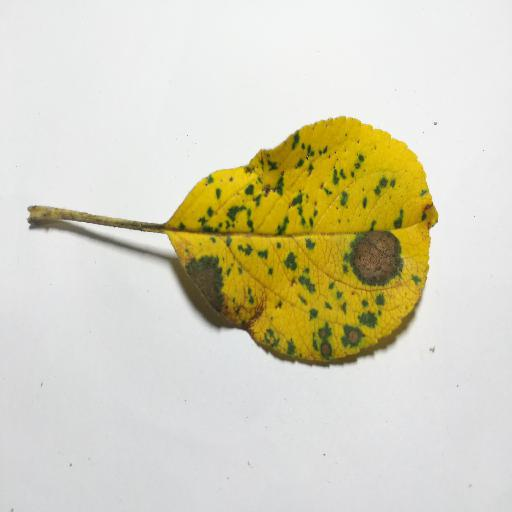Brown_Spot: (179, 253, 220, 309), (350, 233, 390, 284), (213, 304, 268, 322), (317, 326, 336, 360), (340, 328, 352, 343)
